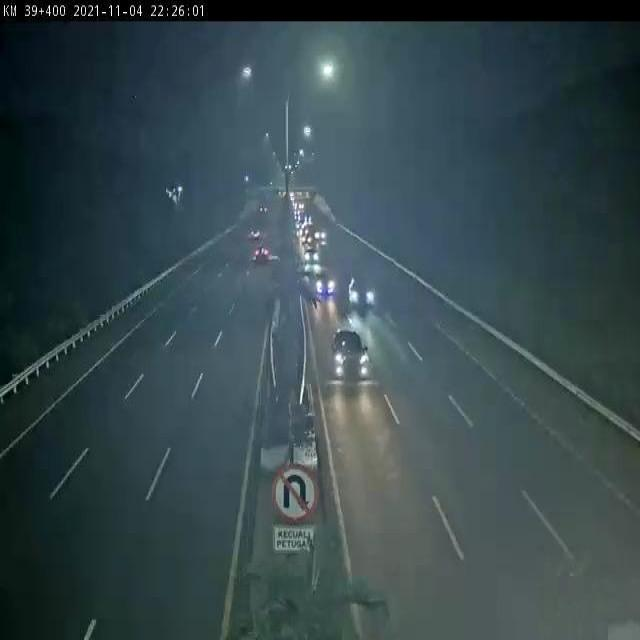car: (326, 325, 369, 395), (339, 269, 389, 311), (296, 251, 323, 276), (315, 276, 342, 299), (252, 240, 272, 264)
